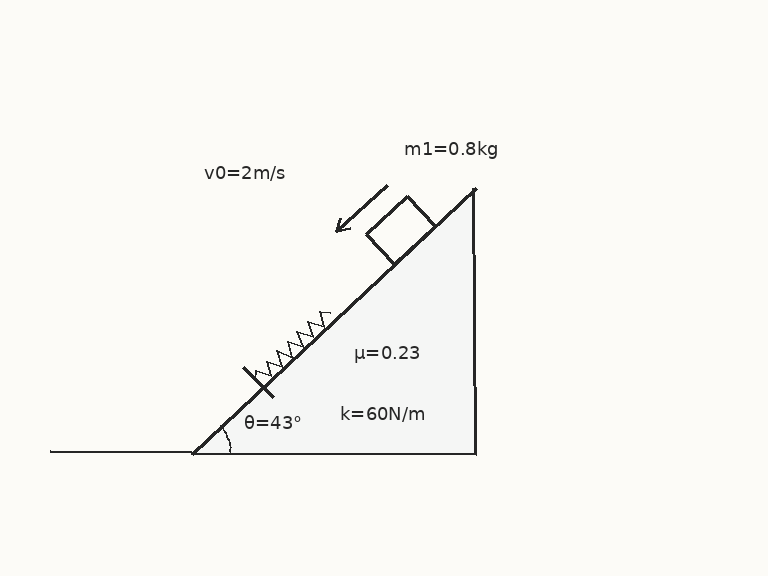block: (364, 194, 437, 266)
ramp: (189, 186, 477, 455)
spring: (254, 309, 332, 382)
